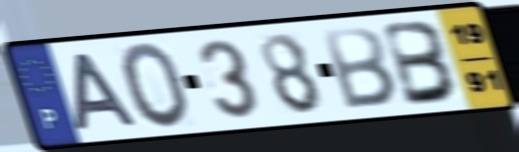3: (195, 37, 261, 122)
8: (259, 30, 325, 116)
A: (69, 51, 141, 134)
B: (379, 18, 462, 109), (319, 24, 401, 112)
O: (118, 40, 194, 133)
